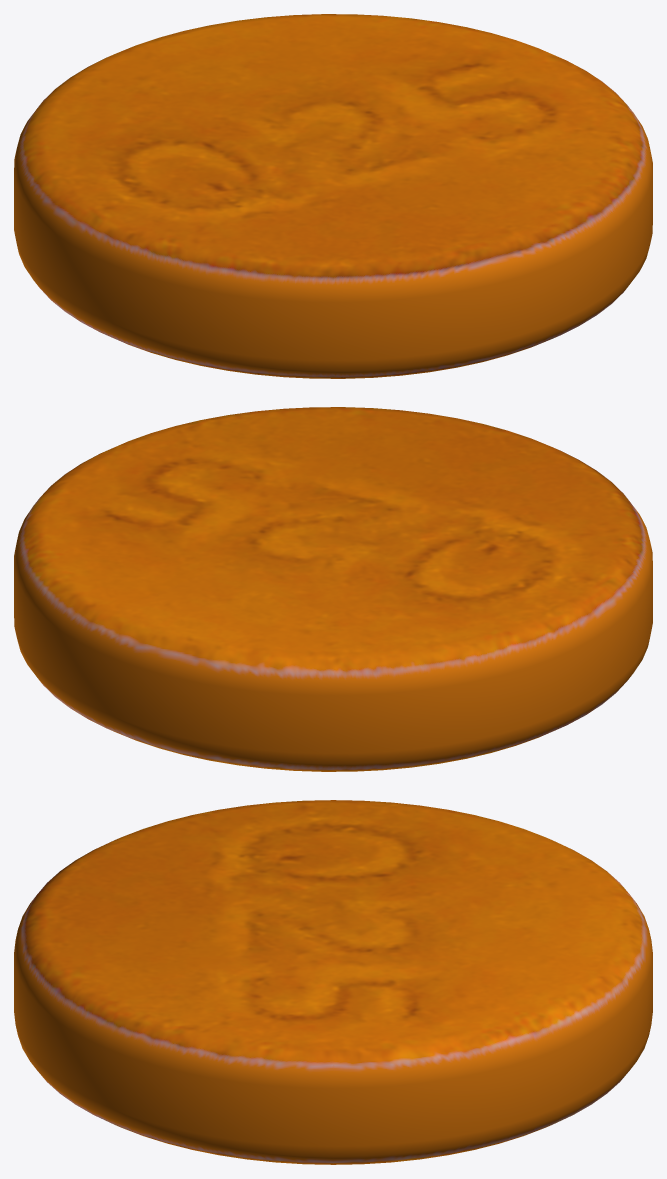
Rendered from quetiapine.glb.
3 views of the same model, one above another, from view 1: azimuth 30°, elevation 25°; view 2: azimuth 150°, elevation 25°; view 3: azimuth 270°, elevation 25° (orthographic).
Visible parts, largest first — view 1: 쿠에타민; view 2: 쿠에타민; view 3: 쿠에타민.
Part boxes in pixels (x1,y1,x2,y2): 쿠에타민: (14,14,652,378); 쿠에타민: (14,407,652,771); 쿠에타민: (14,800,652,1164).
Size of the model in its own units: 1 by 0.2 by 1.
Materials: 1 (1 with a texture image).
